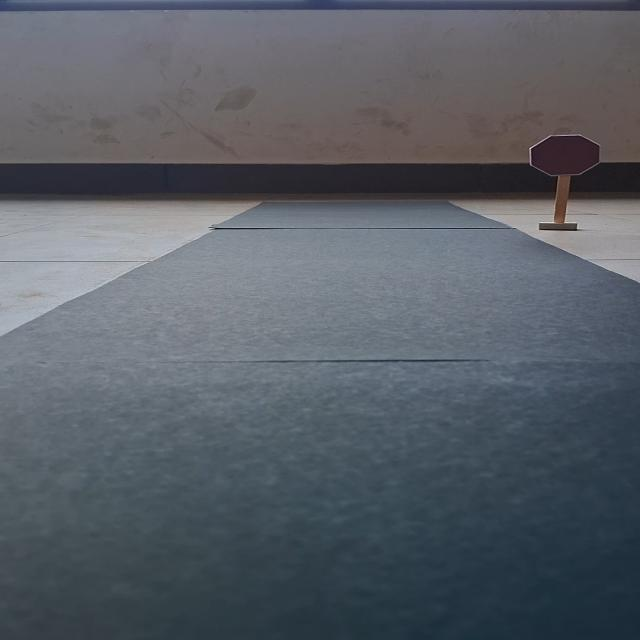Stop: (528, 134, 602, 176)
